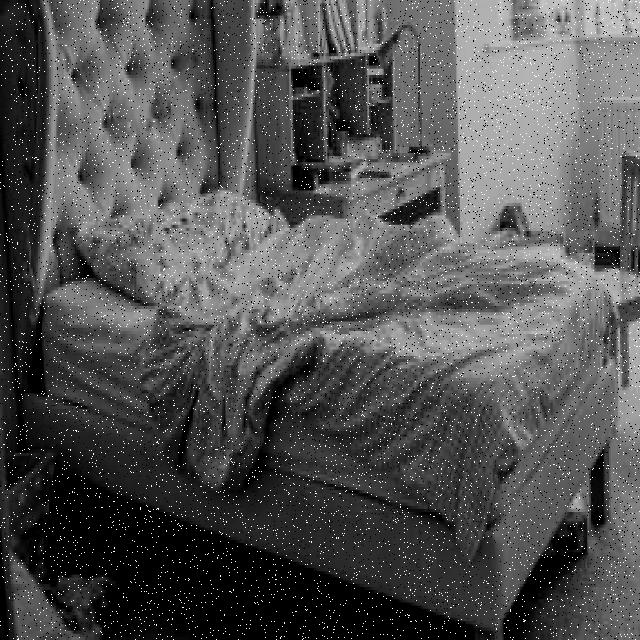bed: (40, 187, 613, 626)
